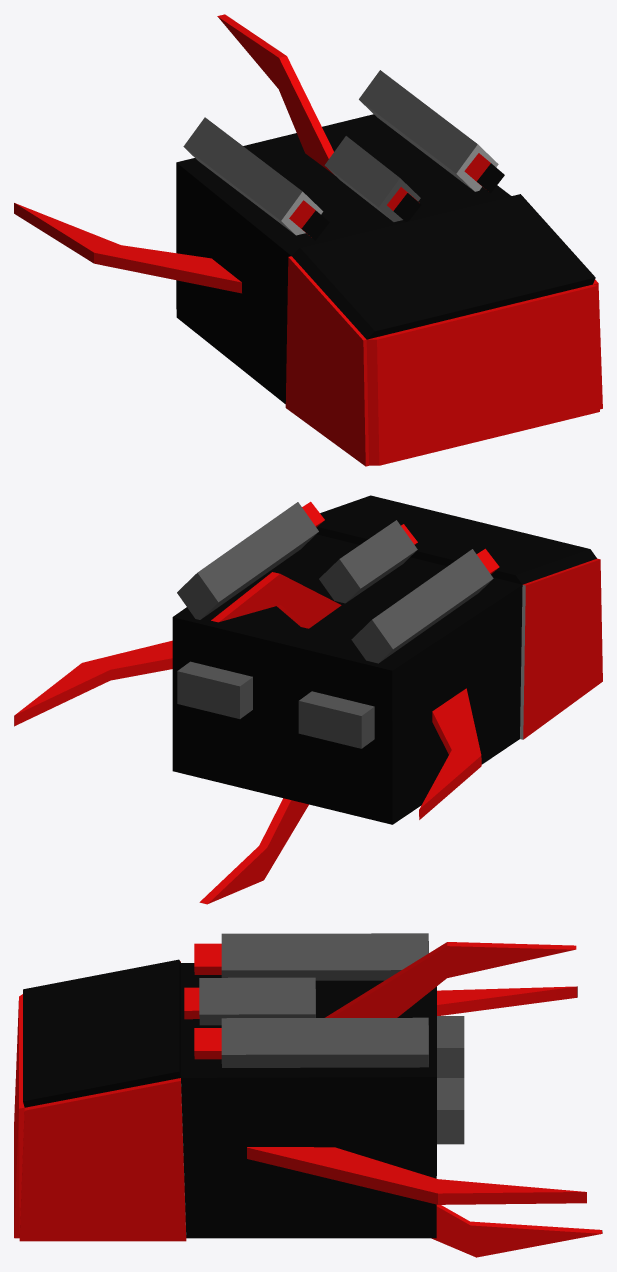
File: FBX Finished Enemy Jupiter Ship.fbx
3 views of the same model, one above another, from view 1: azimuth 30°, elevation 25°; view 2: azimuth 150°, elevation 25°; view 3: azimuth 270°, elevation 25° (orthographic). The views are drawn at different scales.
Parts seen in each view (by area): view 1: pCube1, pasted__pasted__pasted__pCylinder3 (×2), pasted__pasted__pCylinder3, pasted__pasted__pasted__pCube4, pasted__pCube4; view 2: pCube1, pasted__pasted__pasted__pCylinder3 (×2), pasted__pasted__pCube4 (×2), pasted__pasted__pCylinder3, pasted__pasted__pasted__pCube4, pCube2, pasted__pCube4, pasted__pCube2; view 3: pCube1, pasted__pasted__pasted__pCylinder3 (×2), pasted__pasted__pCube4 (×2), pasted__pasted__pCylinder3, pasted__pCube4, pasted__pasted__pasted__pCube4, pasted__pCube2, pCube2.
Part boxes in pixels (x1,y1,x2,y2): pCube1: (176, 114, 602, 466); pasted__pasted__pasted__pCylinder3 (×2): (183, 117, 421, 240); pasted__pasted__pCylinder3: (359, 70, 504, 193); pasted__pasted__pasted__pCube4: (14, 203, 241, 293); pasted__pCube4: (217, 14, 333, 174); pCube1: (172, 495, 602, 824); pasted__pasted__pasted__pCylinder3 (×2): (319, 520, 499, 663); pasted__pasted__pCube4 (×2): (14, 640, 308, 904); pasted__pasted__pCylinder3: (177, 501, 324, 619); pasted__pasted__pasted__pCube4: (419, 688, 481, 819); pCube2: (298, 691, 374, 748); pasted__pCube4: (211, 572, 341, 628); pasted__pCube2: (177, 661, 252, 718); pCube1: (14, 959, 436, 1241); pasted__pasted__pasted__pCylinder3 (×2): (184, 933, 428, 1025); pasted__pasted__pCube4 (×2): (247, 1147, 602, 1257); pasted__pasted__pCylinder3: (194, 1017, 428, 1067); pasted__pCube4: (325, 942, 576, 1017); pasted__pasted__pasted__pCube4: (437, 986, 577, 1015); pasted__pCube2: (437, 1078, 464, 1144); pCube2: (437, 1016, 464, 1077).
Size of the model in its own units: 10.64 by 7.47 by 12.84.
